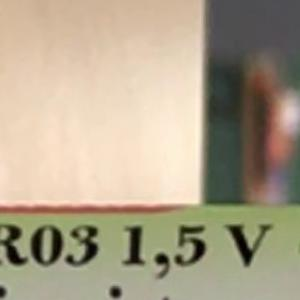keyword: (112, 214, 283, 276)
